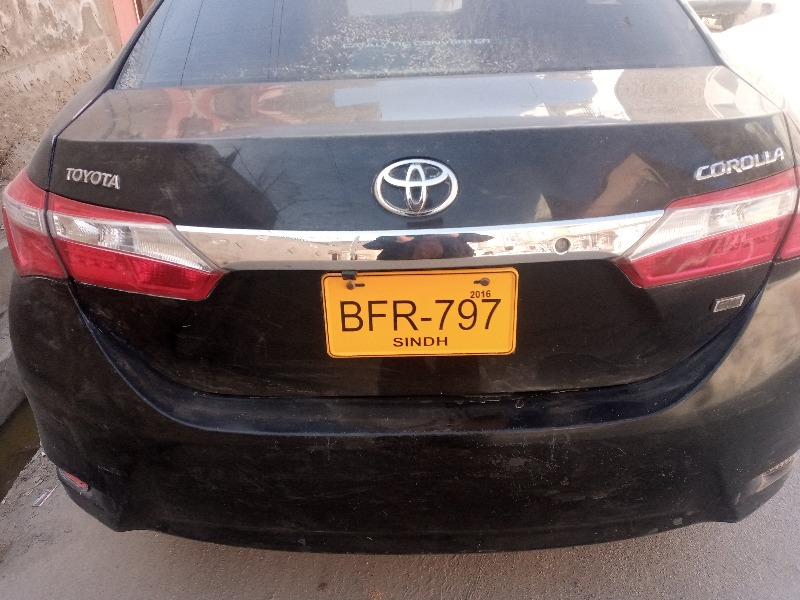License Plate: (319, 266, 520, 359)
